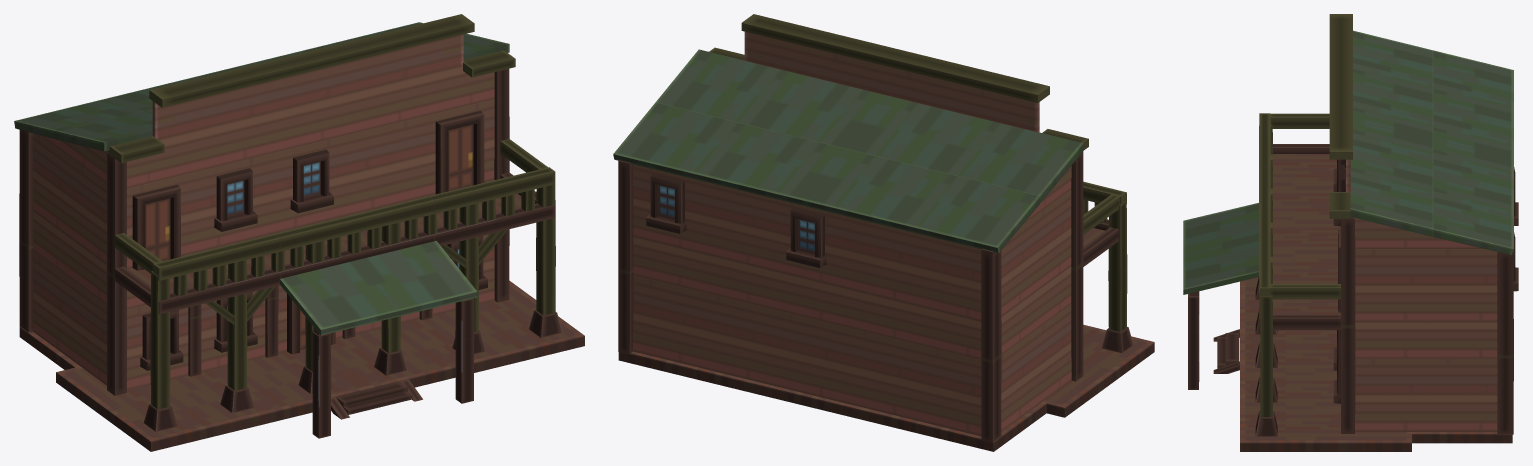
The model's file is house_v1_008.fbx.
3 views of the same model, side by side, from view 1: azimuth 30°, elevation 25°; view 2: azimuth 150°, elevation 25°; view 3: azimuth 270°, elevation 25° (orthographic). The views are drawn at different scales.
Visible parts, largest first — view 1: house_v1_008; view 2: house_v1_008; view 3: house_v1_008.
Part boxes in pixels (box(x1,y1,x2,y2)): house_v1_008: box(14, 14, 584, 451); house_v1_008: box(613, 14, 1154, 451); house_v1_008: box(1183, 14, 1518, 451).
Size of the model in its own units: 1126 by 747 by 832.
